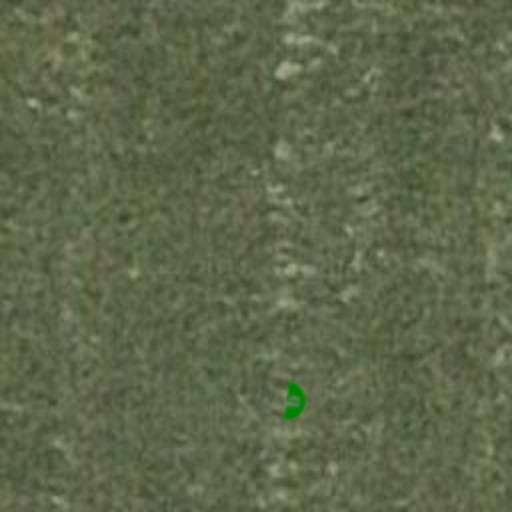semicircle: (272, 378, 320, 426)
